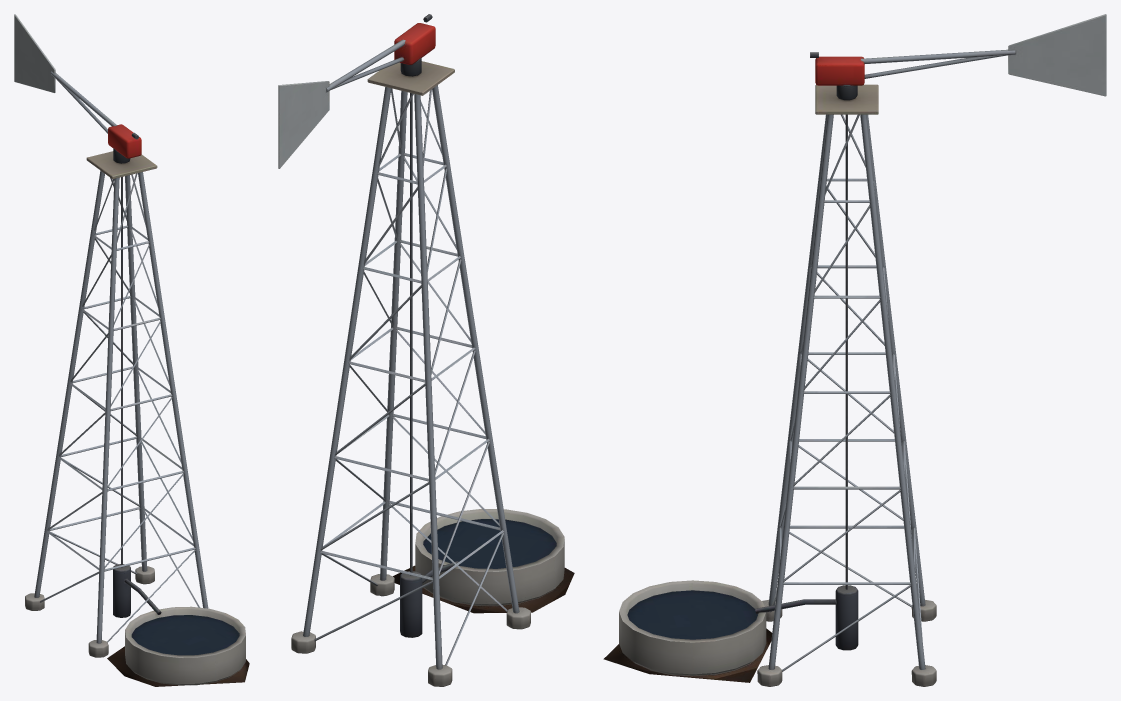
Rendered from windmill.glb.
3 views of the same model, side by side, from view 1: azimuth 30°, elevation 25°; view 2: azimuth 150°, elevation 25°; view 3: azimuth 270°, elevation 25° (orthographic). The views are drawn at different scales.
Visible parts, largest first — view 1: windmill; view 2: windmill; view 3: windmill.
Part boxes in pixels (x1,y1,x2,y2): windmill: (14, 14, 249, 686); windmill: (278, 14, 574, 686); windmill: (603, 14, 1106, 686).
Bounding box in the file's own units: 2.55 × 10.05 × 7.17.
1 material, 1 textured.
